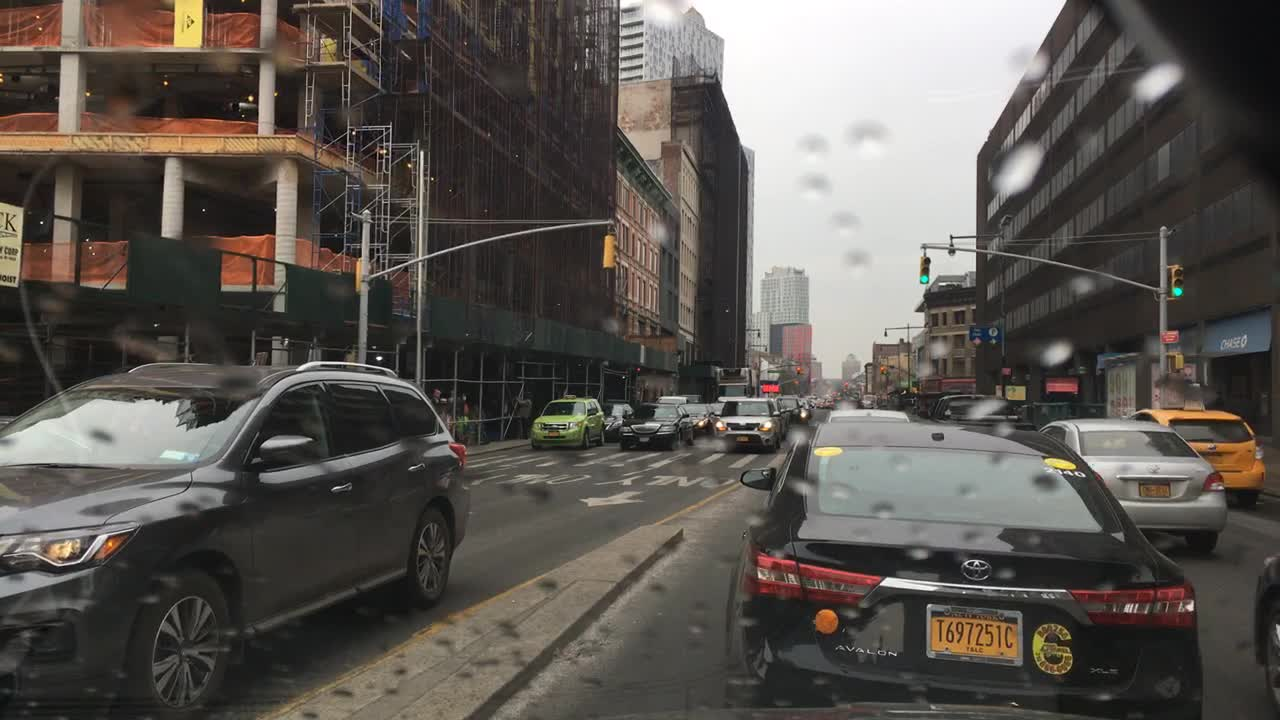car: (0, 355, 474, 718), (723, 418, 1203, 718), (1038, 416, 1230, 553), (1121, 406, 1269, 509), (1251, 555, 1279, 714), (527, 396, 607, 451), (712, 393, 779, 452), (618, 406, 687, 452), (929, 392, 1010, 426), (600, 401, 635, 442), (825, 410, 909, 422), (681, 405, 712, 437), (776, 391, 797, 422), (774, 401, 790, 437), (655, 396, 690, 409), (796, 396, 813, 416), (861, 391, 875, 407), (712, 400, 723, 419), (824, 396, 836, 409), (813, 396, 823, 406)
person: (447, 386, 464, 413), (426, 386, 441, 410)
traffic light: (600, 231, 618, 271), (1169, 264, 1184, 299), (918, 254, 932, 285), (1167, 351, 1184, 372), (793, 365, 802, 376), (878, 364, 886, 376)
traffic sign: (969, 326, 998, 345), (1157, 331, 1178, 345), (998, 364, 1013, 378)
truck: (718, 370, 762, 394)
